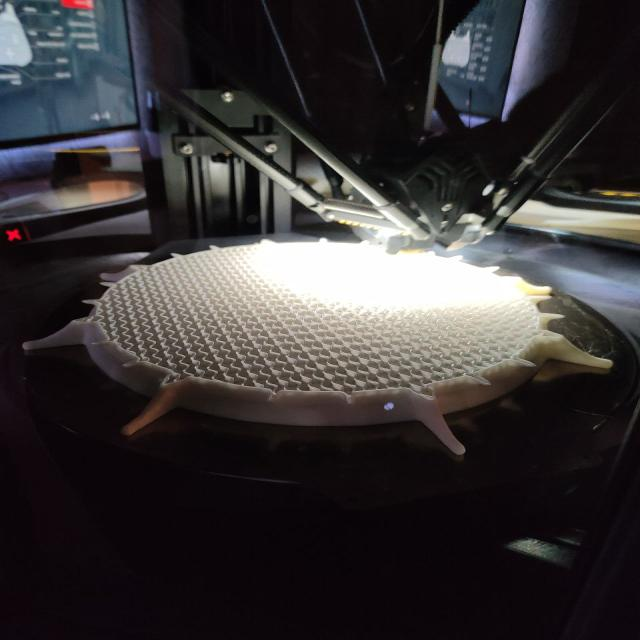Without deffect: (22, 232, 614, 460)
